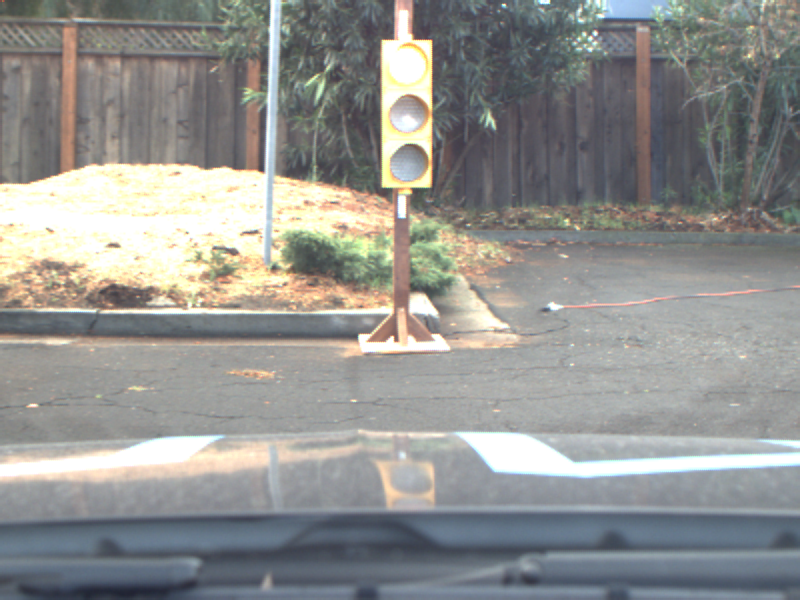Red: (380, 40, 431, 187)
